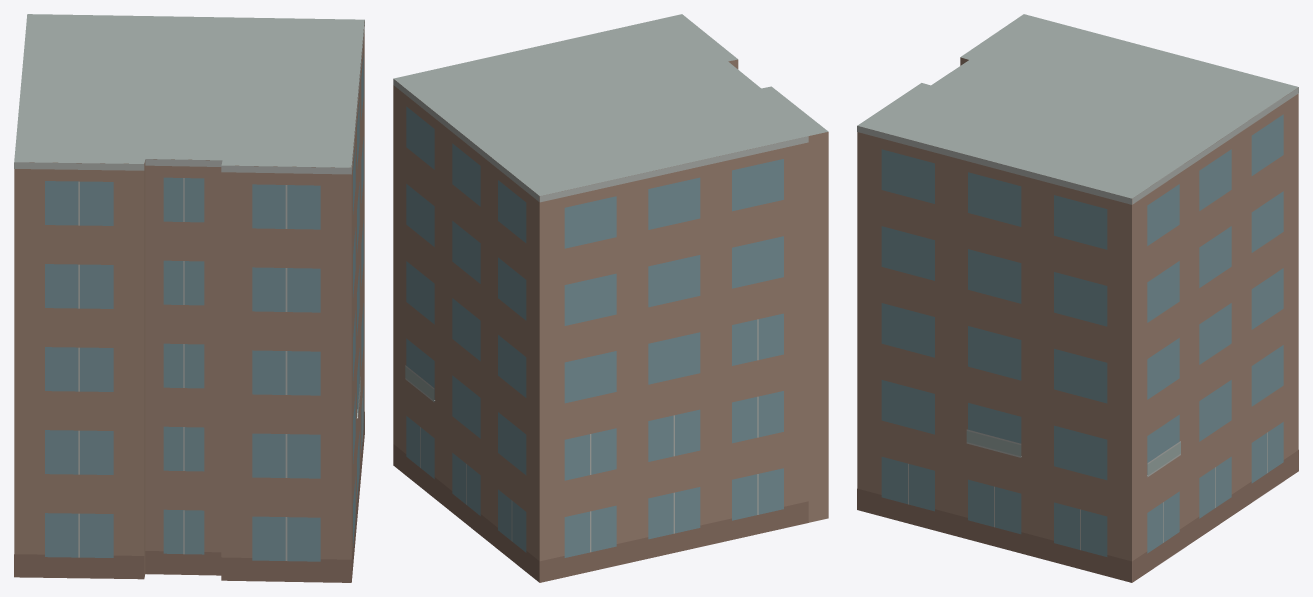
File: survey-upis-33044831.glb
3 renders of one model, left to right at view 1: azimuth 30°, elevation 25°; view 2: azimuth 150°, elevation 25°; view 3: azimuth 270°, elevation 25°, orthographic. The views are drawn at different scales.
Parts seen in each view (by area): view 1: survey-upis-33044831.tmp; view 2: survey-upis-33044831.tmp; view 3: survey-upis-33044831.tmp.
Boxes of the visible parts, x1,y1,x2,y2 form: survey-upis-33044831.tmp: (14,14,364,582); survey-upis-33044831.tmp: (393,14,828,582); survey-upis-33044831.tmp: (857,14,1298,582).
Size of the model in its own units: 15.47 by 15 by 15.64.
